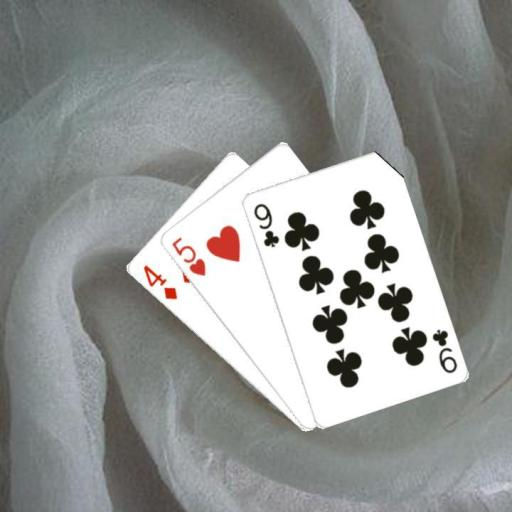4D: (140, 262, 179, 302)
5H: (168, 234, 207, 278)
9C: (249, 200, 281, 249), (428, 326, 459, 375)
